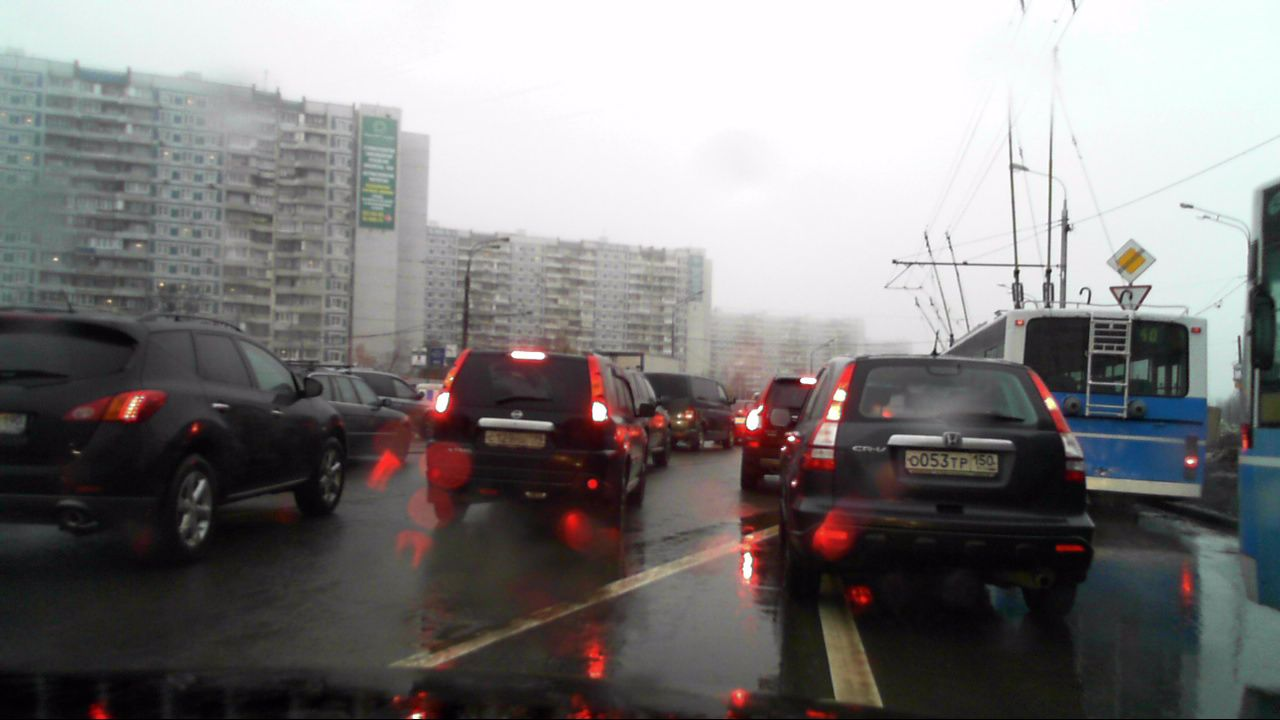main road: (1105, 237, 1157, 285)
